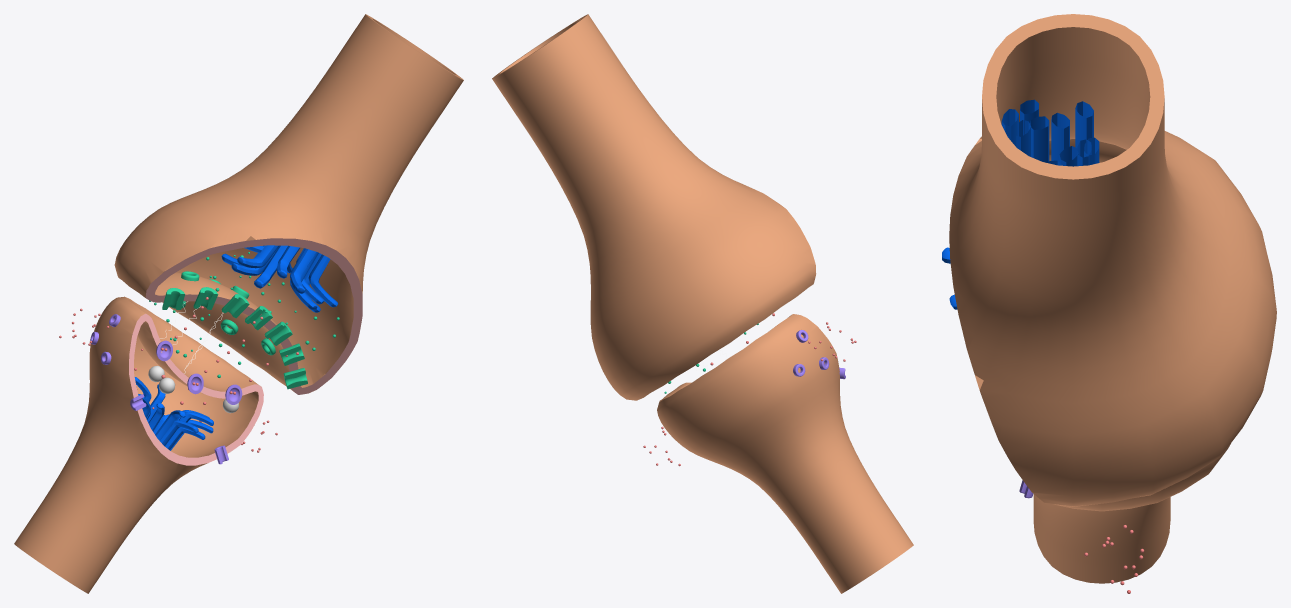
The model's file is Synaps Bağlantı.glb.
3 views of the same model, side by side, from view 1: azimuth 30°, elevation 25°; view 2: azimuth 150°, elevation 25°; view 3: azimuth 270°, elevation 25° (orthographic). The views are drawn at different scales.
Visible parts, largest first — view 1: Dendrit, Akson_Ucu, DendrikKesik, Alt_Sarmaşık, Alt_Yarım_Kanal, Akson_Ucu_Kesik, Üst_Sarmaşık, Sinaptik_Yarım_Kesecikler, Alt_Kanallar; view 2: Dendrit, Akson_Ucu; view 3: Dendrit, Akson_Ucu, Alt_Sarmaşık.
Part boxes in pixels (x1,y1,x2,y2): Dendrit: (114,14,463,392); Akson_Ucu: (14,296,259,593); DendrikKesik: (145,238,362,394); Alt_Sarmaşık: (221,245,337,312); Alt_Yarım_Kanal: (162,287,307,389); Akson_Ucu_Kesik: (129,313,263,465); Üst_Sarmaşık: (134,377,213,450); Sinaptik_Yarım_Kesecikler: (156,340,242,404); Alt_Kanallar: (170,271,275,355); Dendrit: (492,14,816,400); Akson_Ucu: (657,314,913,593); Dendrit: (949,14,1276,506); Akson_Ucu: (1033,443,1230,583); Alt_Sarmaşık: (942,99,1099,309).
Size of the model in its own units: 18.71 by 21.24 by 8.16.
